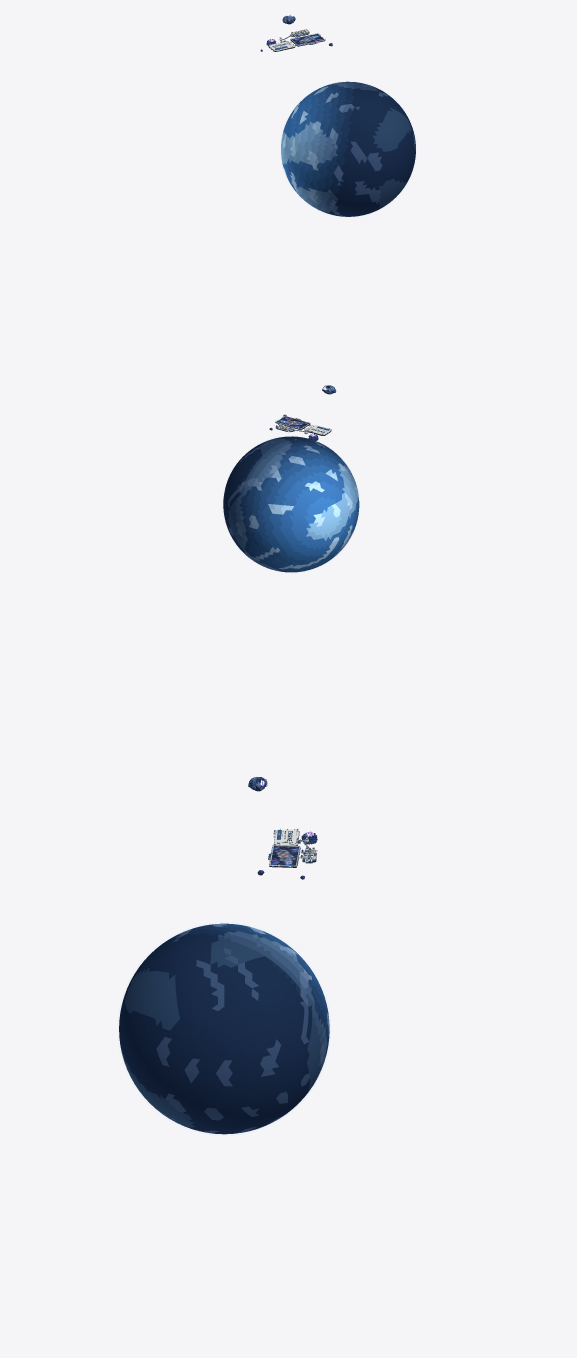
Rendered from engine-assembled.glb.
3 views of the same model, one above another, from view 1: azimuth 30°, elevation 25°; view 2: azimuth 150°, elevation 25°; view 3: azimuth 270°, elevation 25° (orthographic). The views are drawn at different scales.
Parts seen in each view (by area): view 1: Distant_Planet__planet_surface_ocean_00_planet_surface_ocean; view 2: Distant_Planet__planet_surface_ocean_00_planet_surface_ocean; view 3: Distant_Planet__planet_surface_ocean_00_planet_surface_ocean.
Part boxes in pixels (x1=…): Distant_Planet__planet_surface_ocean_00_planet_surface_ocean: x1=281, y1=81, x2=415, y2=216; Distant_Planet__planet_surface_ocean_00_planet_surface_ocean: x1=223, y1=436, x2=359, y2=572; Distant_Planet__planet_surface_ocean_00_planet_surface_ocean: x1=119, y1=923, x2=329, y2=1134.
Size of the model in its own units: 250 by 153 by 188.
70 materials, 1 textured.
